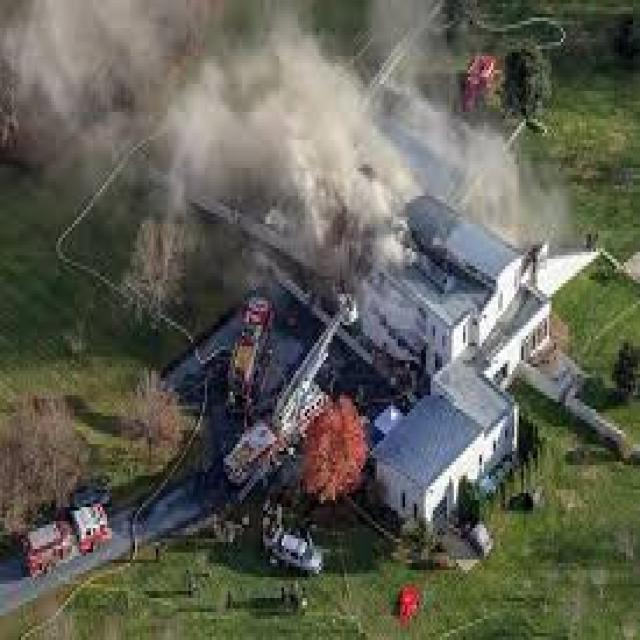Smoke: (0, 0, 576, 260)
